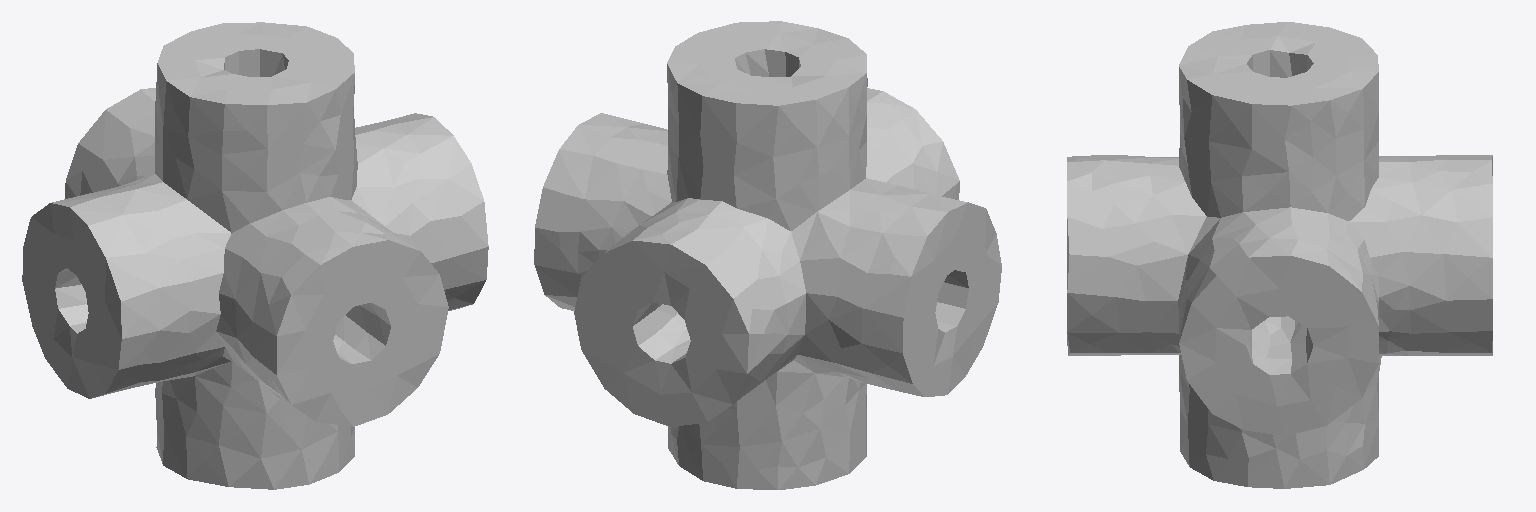
File: inner.stl__sf.obj
The picture shows the model from 3 angles: view 1: azimuth 30°, elevation 25°; view 2: azimuth 150°, elevation 25°; view 3: azimuth 270°, elevation 25°; orthographic projection.
Bounding box in the file's own units: 18.9 × 18.9 × 18.9.